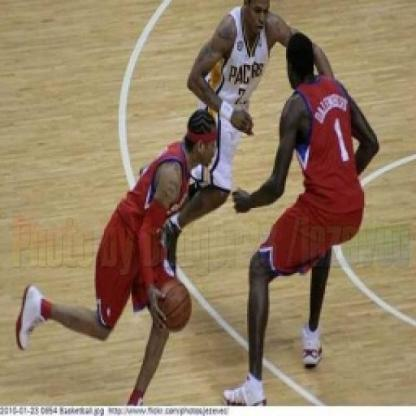basketball: (149, 274, 199, 336)
